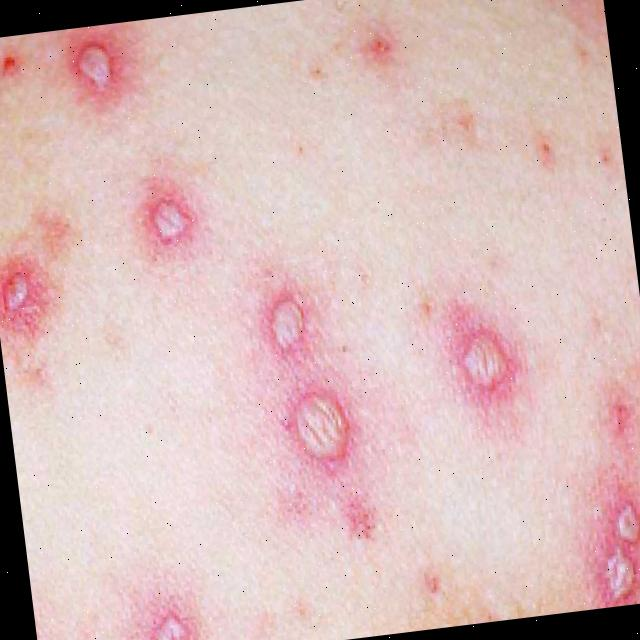kan emici bocekler: (263, 360, 372, 484), (430, 301, 535, 416), (558, 474, 640, 606), (117, 158, 211, 265), (243, 264, 329, 373), (123, 586, 211, 640)
